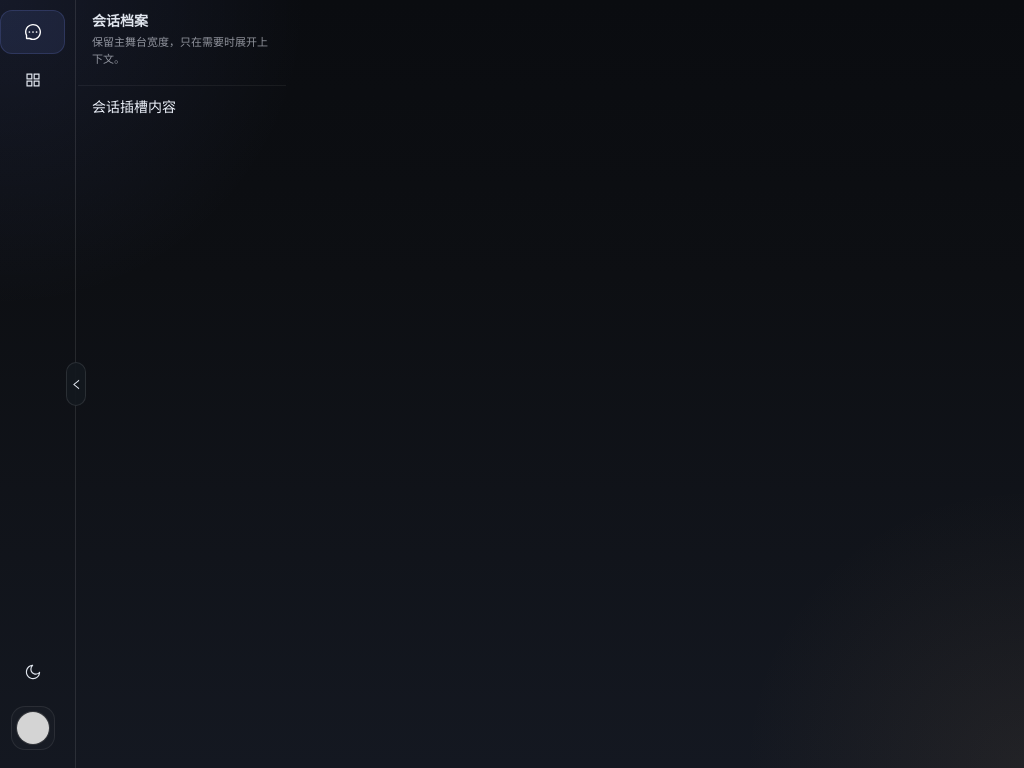
Test: Sidebar › 提供全局主题切换入口，并会更新根节点主题状态
This screenshot has width=1024, height=768.
Expected: the picture named "moon" is shown, [24, 664, 40, 680]
Click the button named "切换到明亮皮肤" at x=32, y=672, box [10, 650, 54, 694]
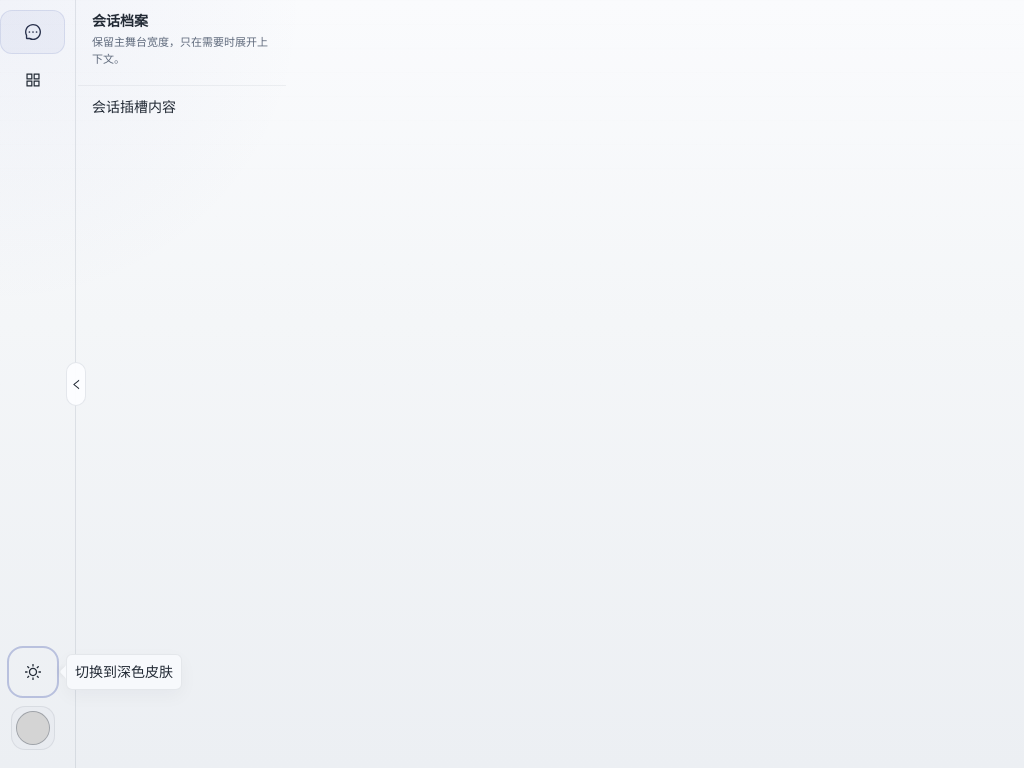
Expected: the picture named "sun" is shown, [24, 664, 40, 680]
Expected: the button named "切换到深色皮肤" is shown, [10, 650, 54, 694]
